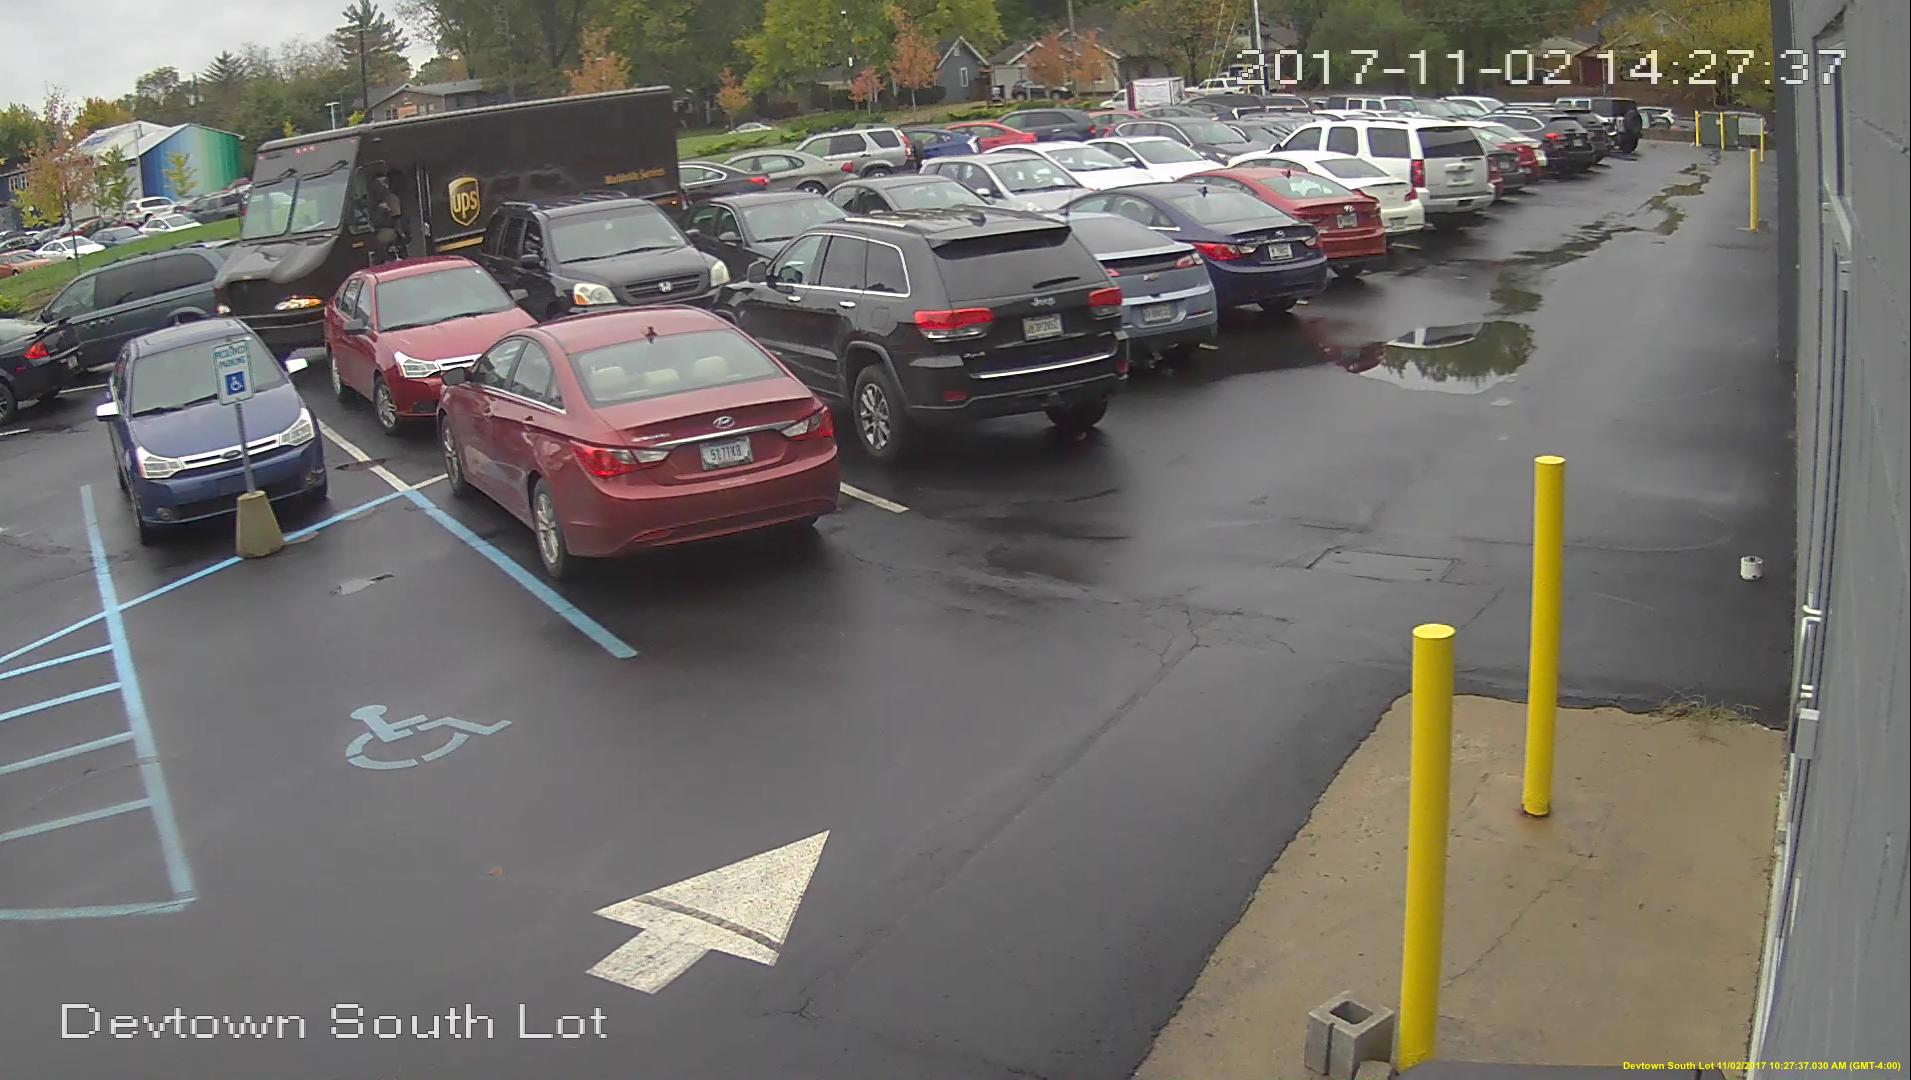ups_truck: (228, 117, 696, 297)
